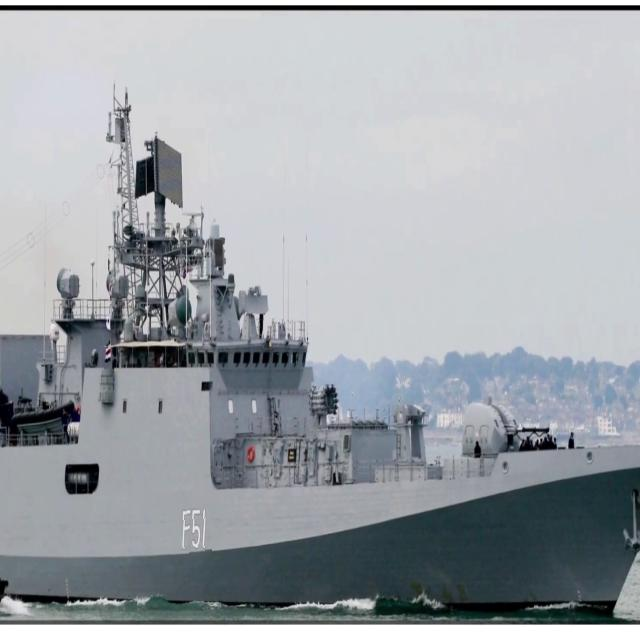OCR: (178, 506, 212, 558)
